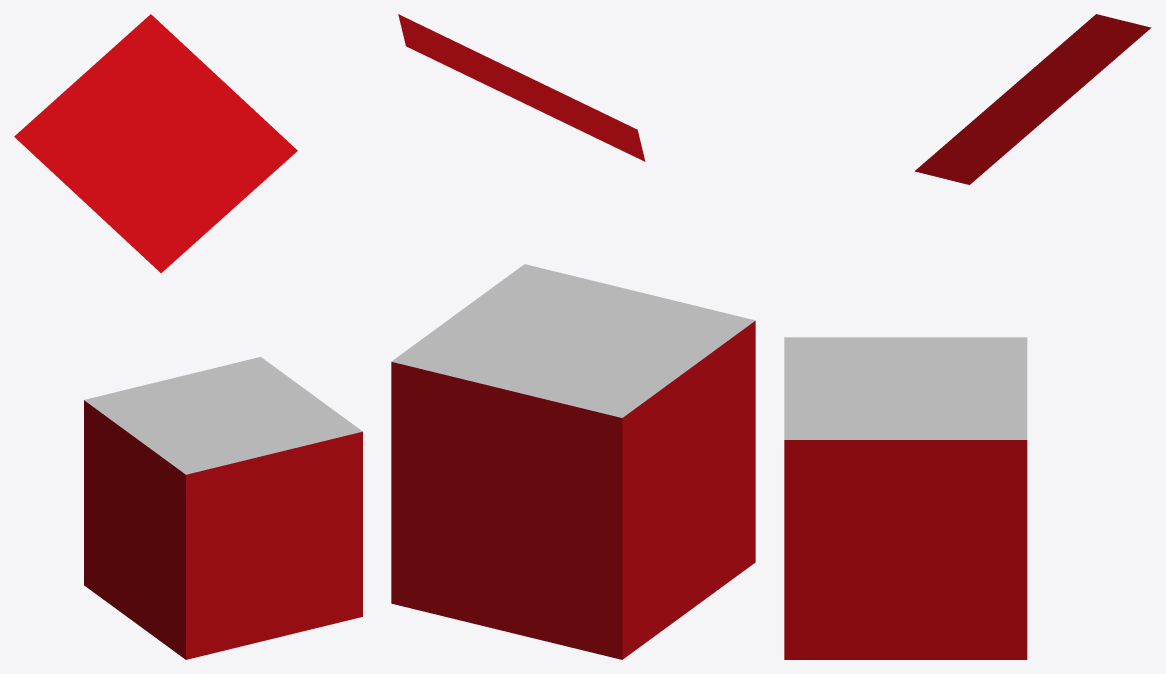
File: example1.obj
The picture shows the model from 3 angles, left to right: view 1: azimuth 30°, elevation 25°; view 2: azimuth 150°, elevation 25°; view 3: azimuth 270°, elevation 25°; orthographic projection. The views are drawn at different scales.
Visible parts, largest first — view 1: Cube, Plane; view 2: Cube, Plane; view 3: Cube, Plane.
Boxes of the visible parts, x1=… form: Cube: x1=84, y1=357, x2=362, y2=659; Plane: x1=14, y1=14, x2=297, y2=272; Cube: x1=391, y1=264, x2=755, y2=659; Plane: x1=398, y1=14, x2=645, y2=161; Cube: x1=784, y1=337, x2=1027, y2=659; Plane: x1=914, y1=14, x2=1151, y2=184.
Size of the model in its own units: 2.61 by 5.44 by 3.02.
